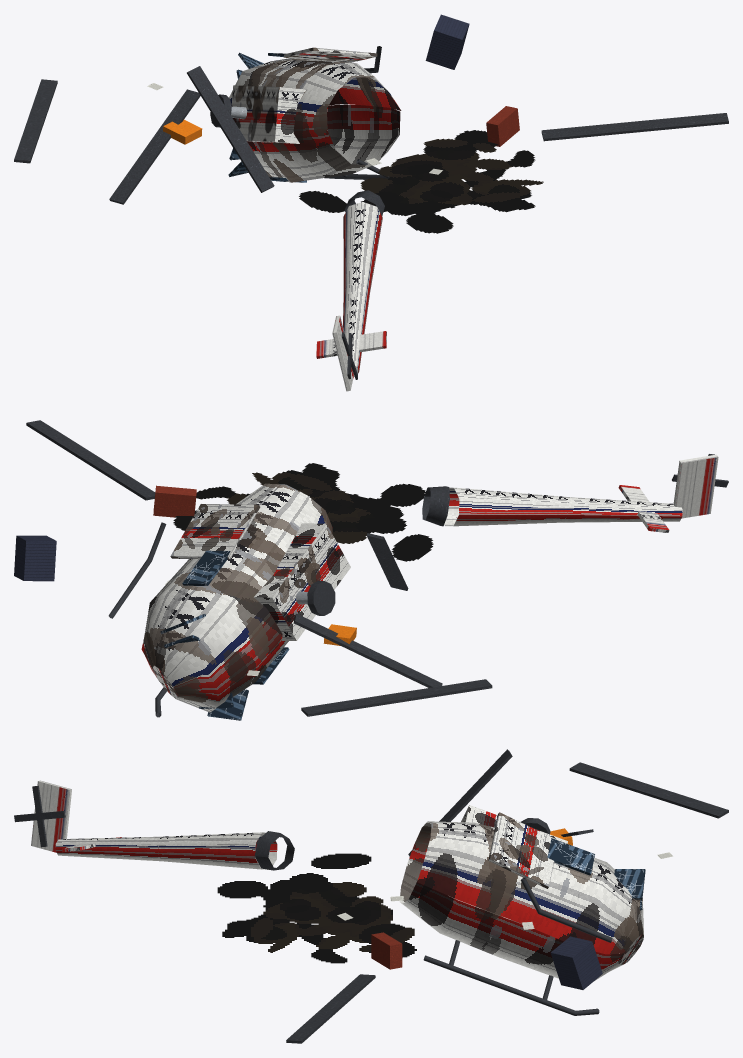
Rendered from prop_heli_wreck.glb.
3 renders of one model, top to bottom at view 1: azimuth 30°, elevation 25°; view 2: azimuth 150°, elevation 25°; view 3: azimuth 270°, elevation 25°, orthographic. The views are drawn at different scales.
Visible parts, largest first — view 1: prop_heli_wreck; view 2: prop_heli_wreck; view 3: prop_heli_wreck.
Part boxes in pixels (x1,y1,x2,y2): prop_heli_wreck: (14,14,728,391); prop_heli_wreck: (14,420,728,720); prop_heli_wreck: (14,749,728,1043).
Size of the model in its own units: 12.1 by 3.61 by 12.8.
Materials: 10 (10 with a texture image).
